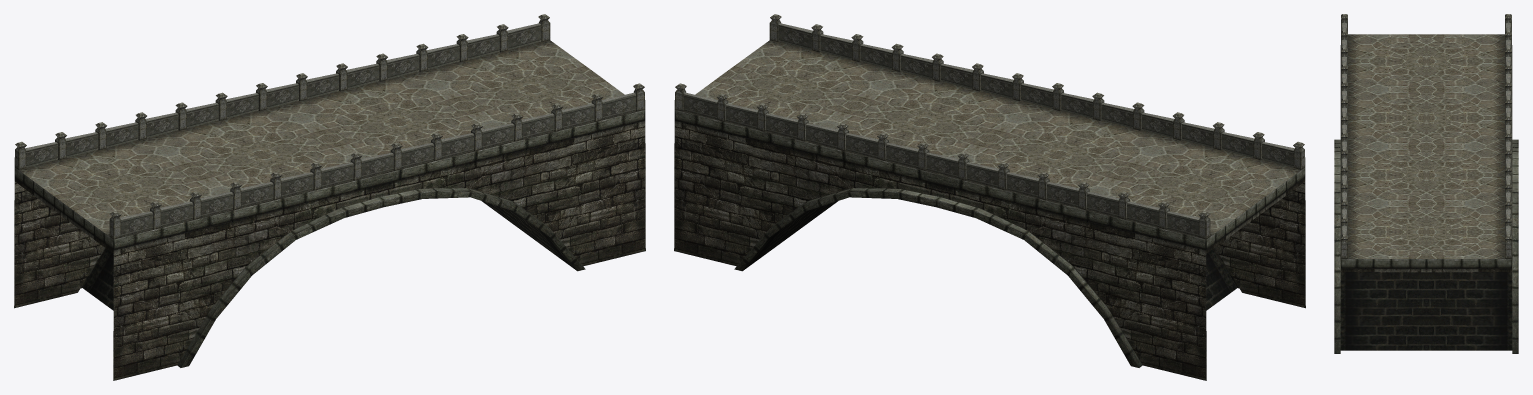
File: ep-022-10m-bridge.fbx
3 renders of one model, left to right at view 1: azimuth 30°, elevation 25°; view 2: azimuth 150°, elevation 25°; view 3: azimuth 270°, elevation 25°, orthographic. The views are drawn at different scales.
Parts seen in each view (by area): view 1: ep-022-10m-bridge; view 2: ep-022-10m-bridge; view 3: ep-022-10m-bridge.
Part boxes in pixels (x1,y1,x2,y2): ep-022-10m-bridge: [14, 14, 645, 380]; ep-022-10m-bridge: [674, 14, 1305, 380]; ep-022-10m-bridge: [1334, 14, 1518, 353].
Size of the model in its own units: 39.46 by 11.76 by 13.69.
